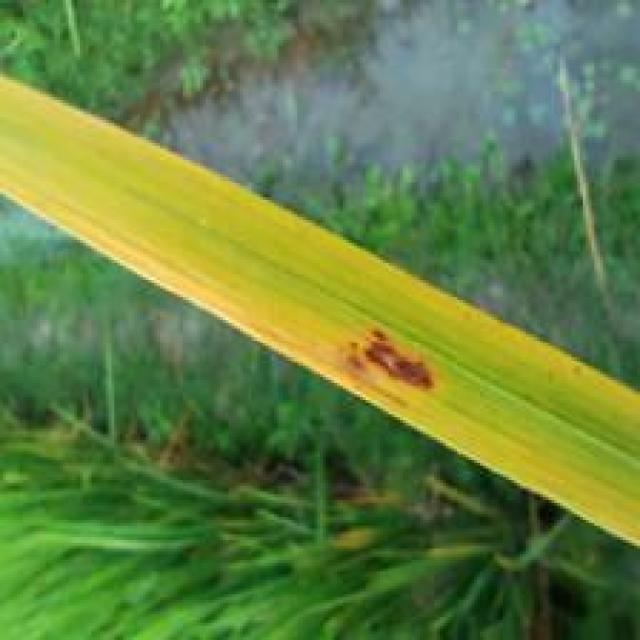Narrow_Brown_Leaf_Spot: (0, 179, 444, 417)
